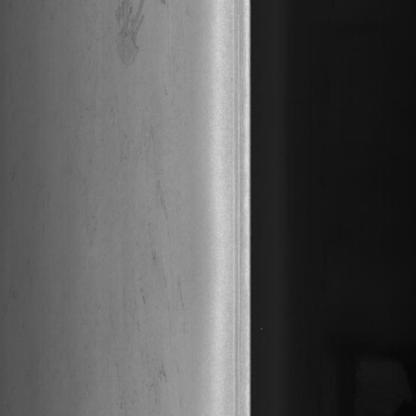water_spot: (102, 0, 156, 73)
